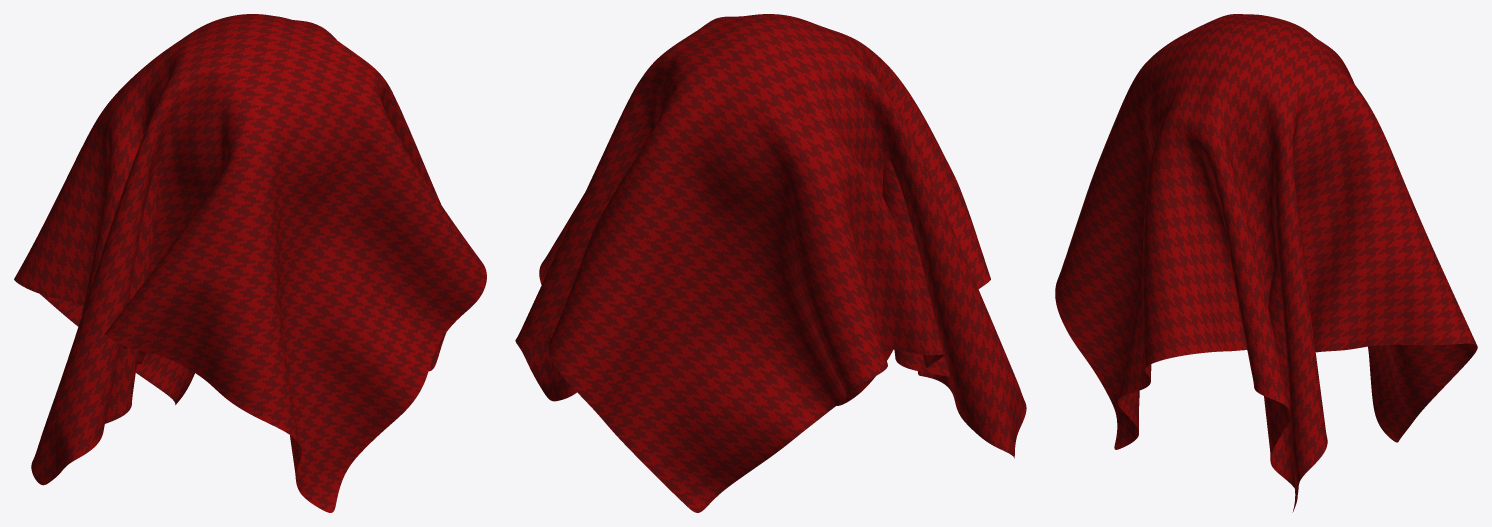
Rendered from casino_carpet_1.jpg-specular.fbx.
3 views of the same model, side by side, from view 1: azimuth 30°, elevation 25°; view 2: azimuth 150°, elevation 25°; view 3: azimuth 270°, elevation 25° (orthographic). The views are drawn at different scales.
Parts seen in each view (by area): view 1: casino_carpet_1; view 2: casino_carpet_1; view 3: casino_carpet_1.
Boxes of the visible parts, <box> form: casino_carpet_1: <box>14,14,486,512</box>; casino_carpet_1: <box>515,14,1026,512</box>; casino_carpet_1: <box>1055,14,1477,512</box>.
Bounding box in the file's own units: 479 × 438 × 401.
Materials: 1 (1 with a texture image).
